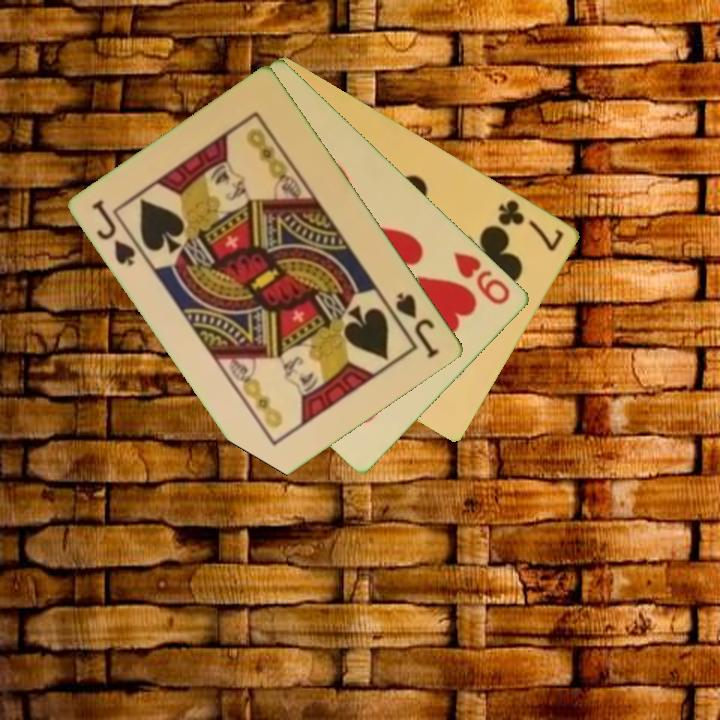7c: (495, 196, 568, 254)
9h: (450, 248, 514, 308)
Js: (89, 196, 148, 270), (392, 289, 443, 362)
